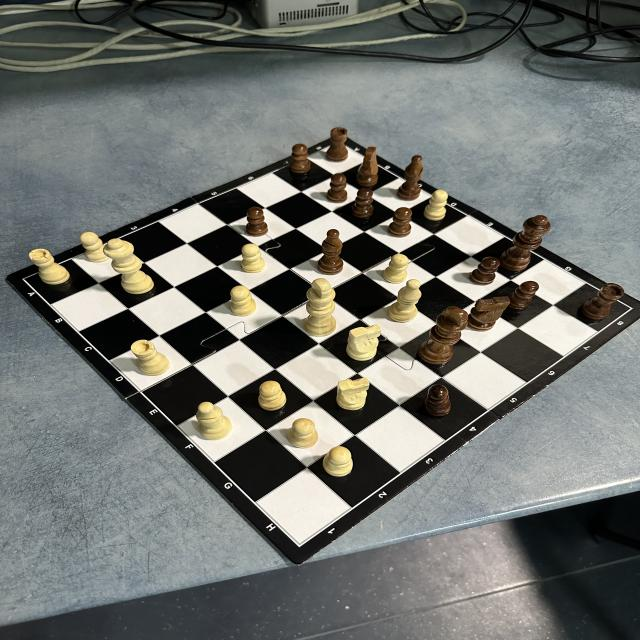Black-Bishop: (397, 154, 424, 201), (316, 230, 342, 275)
Black-King: (418, 306, 467, 364)
Black-Knight: (467, 295, 510, 331), (354, 145, 378, 186)
Black-Pawn: (470, 256, 500, 286), (510, 280, 539, 308), (424, 385, 450, 416), (388, 207, 412, 237), (245, 208, 268, 236), (288, 144, 310, 173), (327, 173, 348, 202), (352, 189, 372, 218)
Black-Queen: (501, 215, 551, 269)
Black-Rook: (582, 283, 624, 319), (326, 127, 348, 162)
White-Bishop: (389, 279, 421, 323), (197, 401, 232, 440)
White-King: (304, 278, 336, 336)
White-Knight: (348, 325, 381, 360), (337, 377, 369, 410)
White-Pawn: (80, 231, 110, 262), (289, 417, 317, 448), (258, 380, 286, 410), (325, 446, 352, 477), (230, 285, 255, 316), (383, 253, 408, 283), (424, 190, 448, 220), (241, 244, 265, 273)
White-Queen: (104, 239, 154, 294)
White-Rook: (28, 248, 69, 285), (131, 340, 169, 375)
